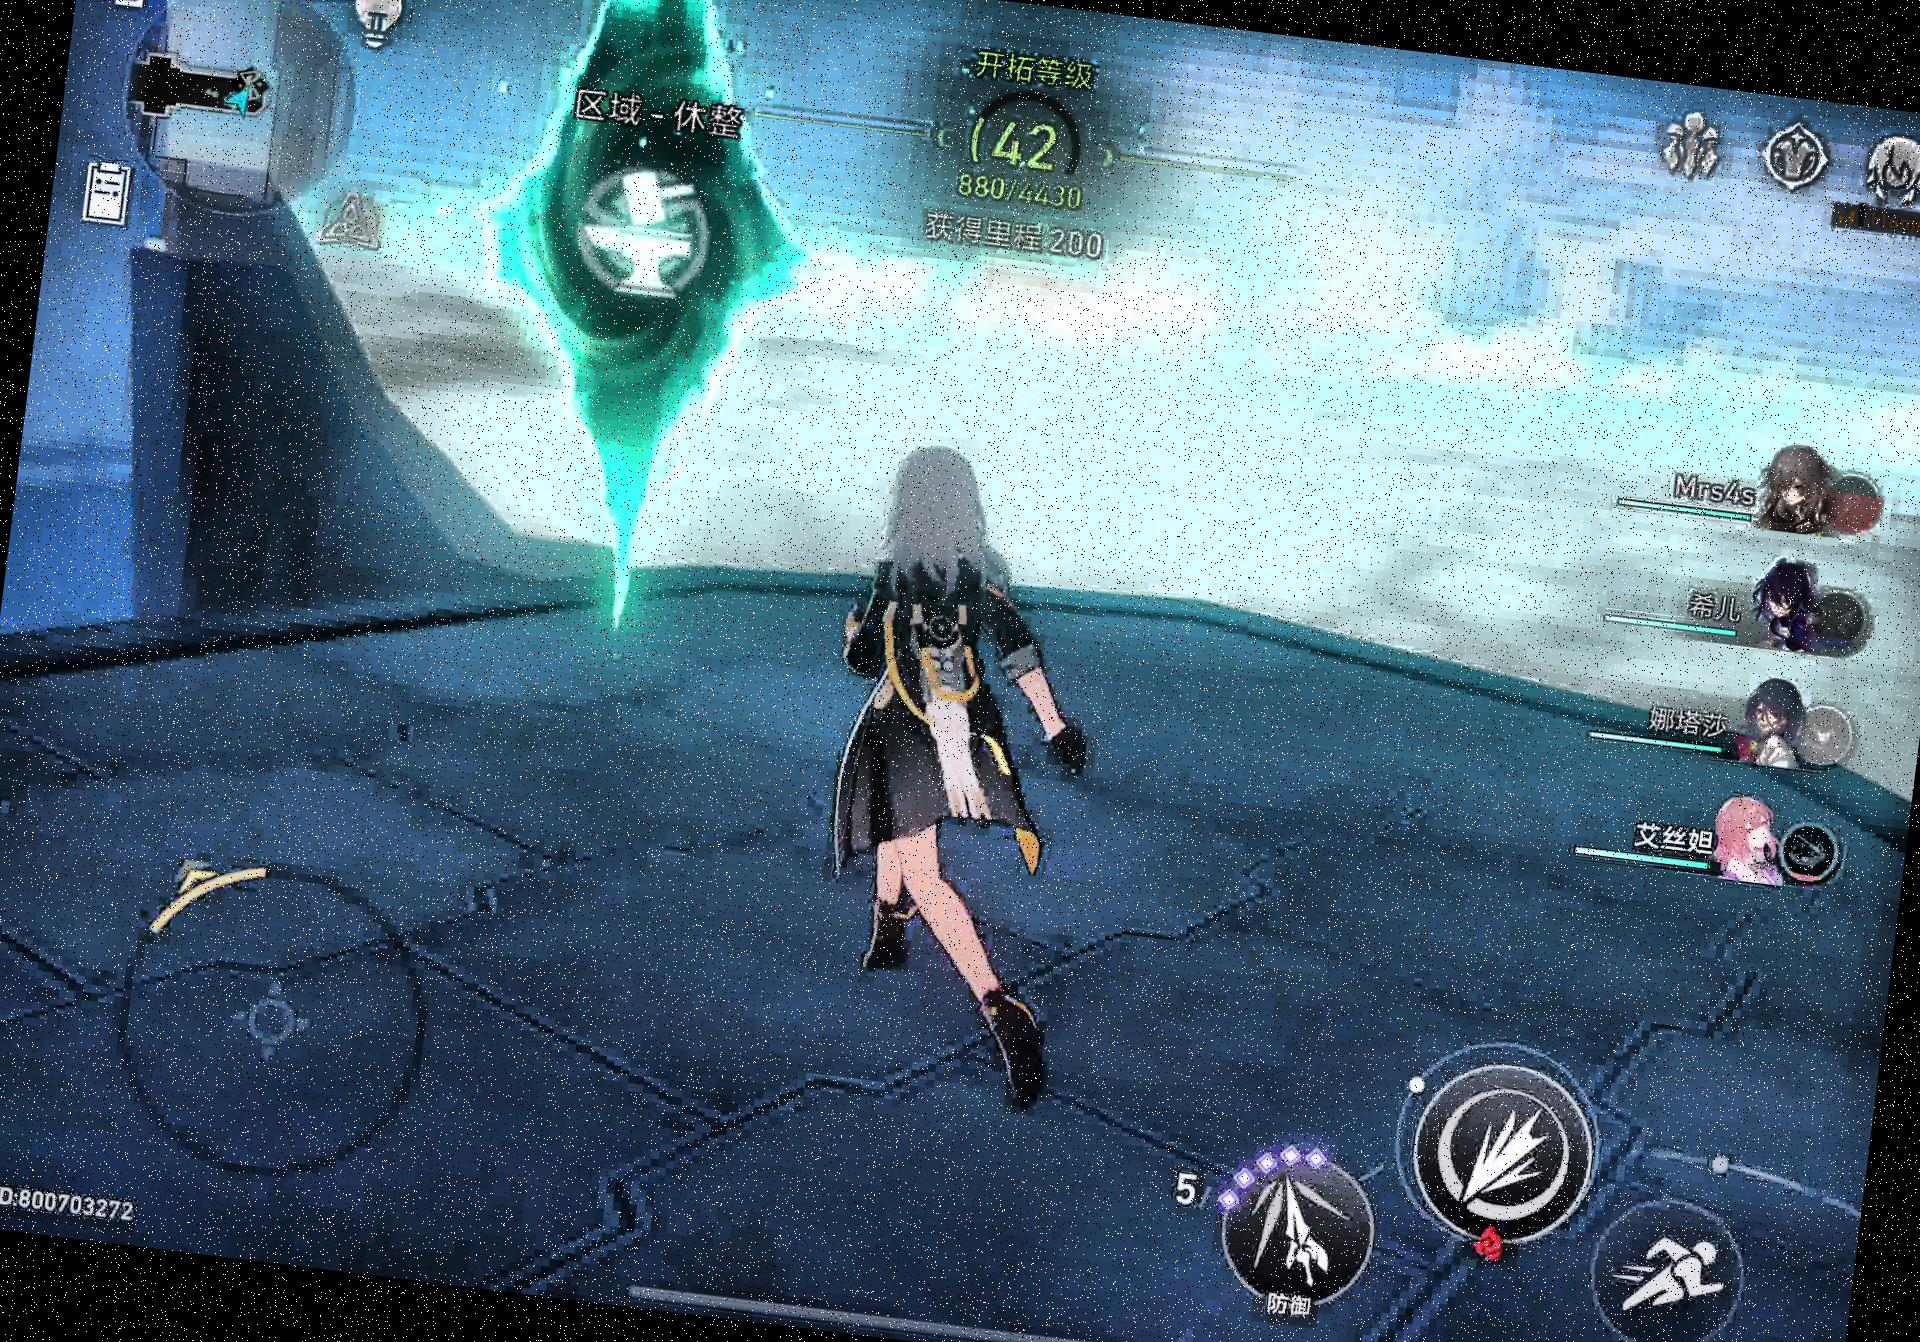SafeDoor: (344, 0, 862, 667)
Self: (786, 438, 1129, 1133)
